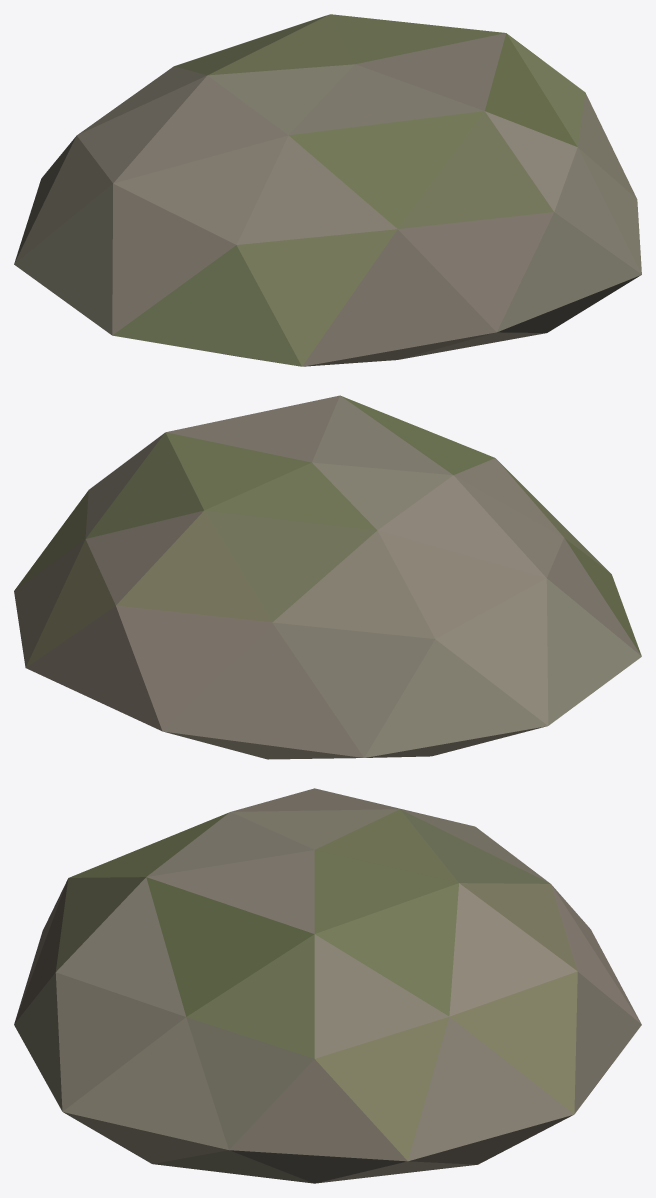
The model's file is env_lime_b.glb.
3 renders of one model, top to bottom at view 1: azimuth 30°, elevation 25°; view 2: azimuth 150°, elevation 25°; view 3: azimuth 270°, elevation 25°, orthographic. The views are drawn at different scales.
Visible parts, largest first — view 1: env_lime_b; view 2: env_lime_b; view 3: env_lime_b.
Boxes of the visible parts, x1,y1,x2,y2 form: env_lime_b: [14, 14, 641, 366]; env_lime_b: [14, 395, 641, 759]; env_lime_b: [14, 788, 641, 1183].
Size of the model in its own units: 1.78 by 0.7312 by 1.64.
